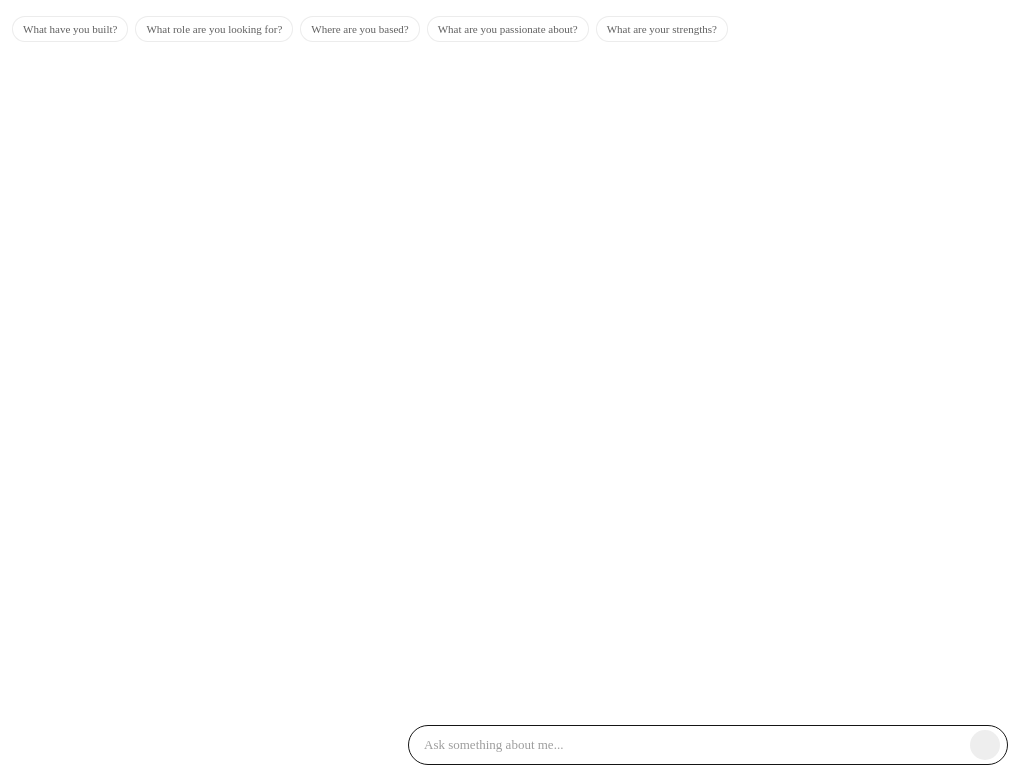
Test case: QuestionPreview › shows server errors accessibly
Click the button "What have you built?".
click(70, 29)  # box [12,16,128,42]
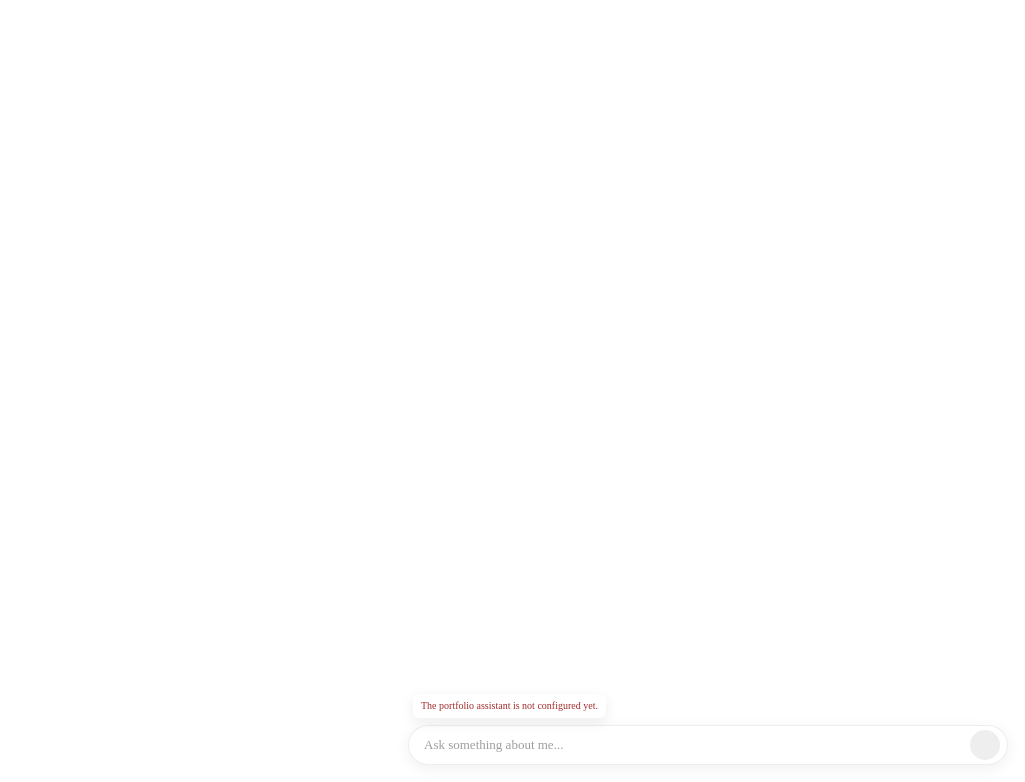
Expected: the message shows "not configured yet", [421,700,598,711]
